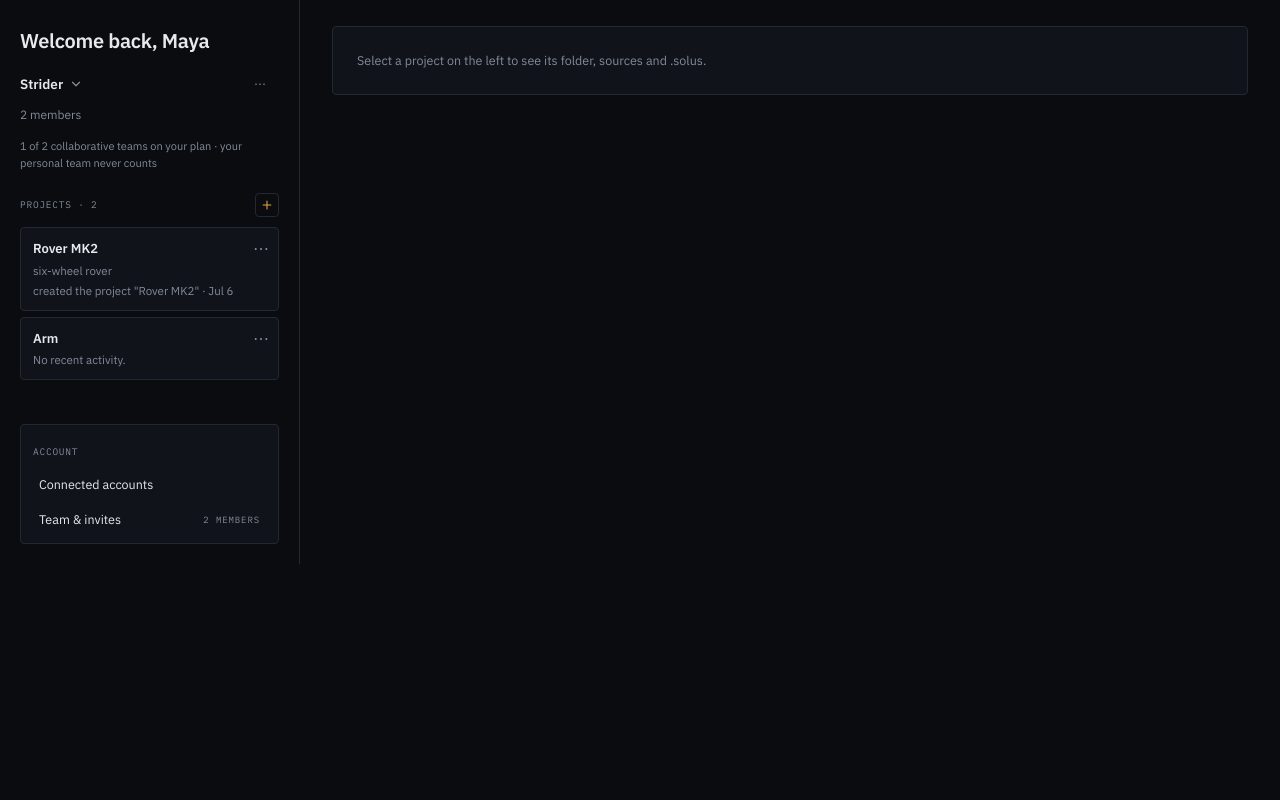
Scenario: HomeScreen — manage › hides delete for admins and members — only an owner deletes (ADR-025)
Click the button named "Project actions for Rover MK2" at (261, 248), box [249,240,273,256]
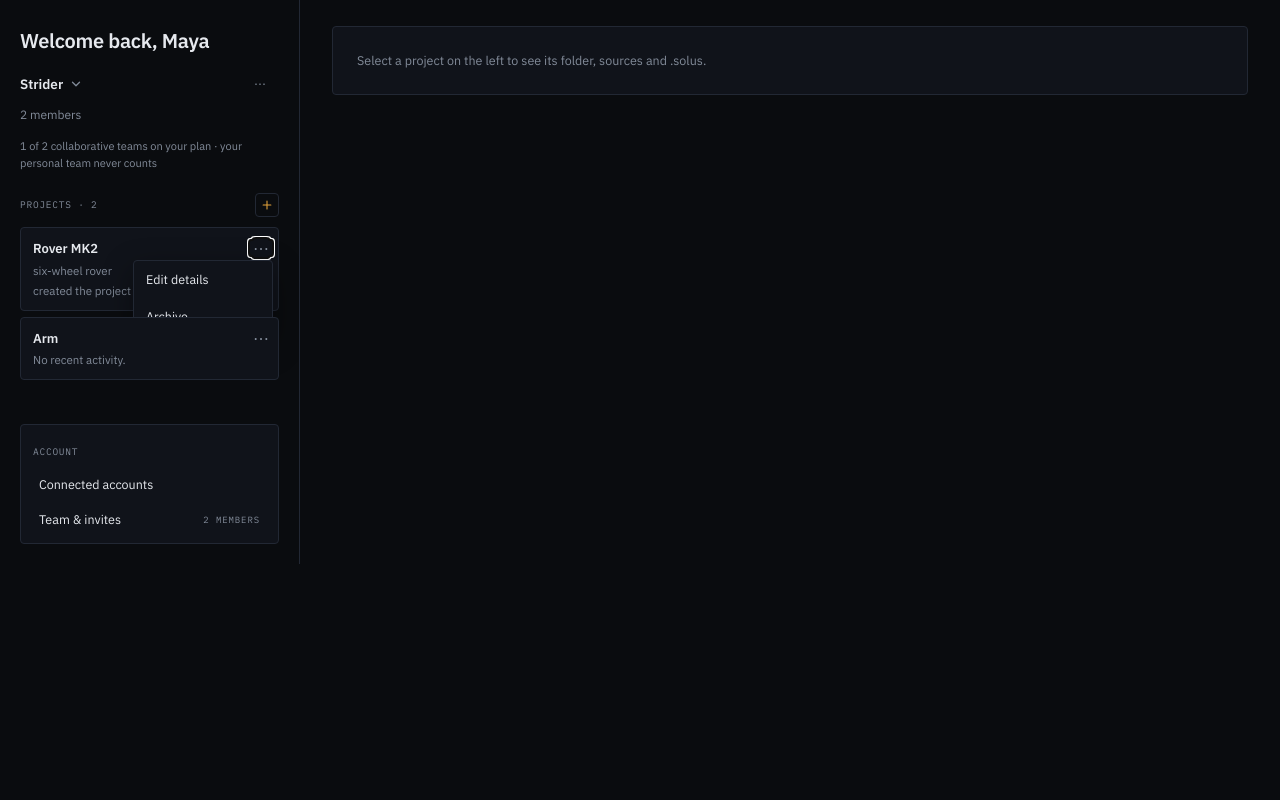
Check: the menu item "Archive" is shown, box [134,298,272,335]
